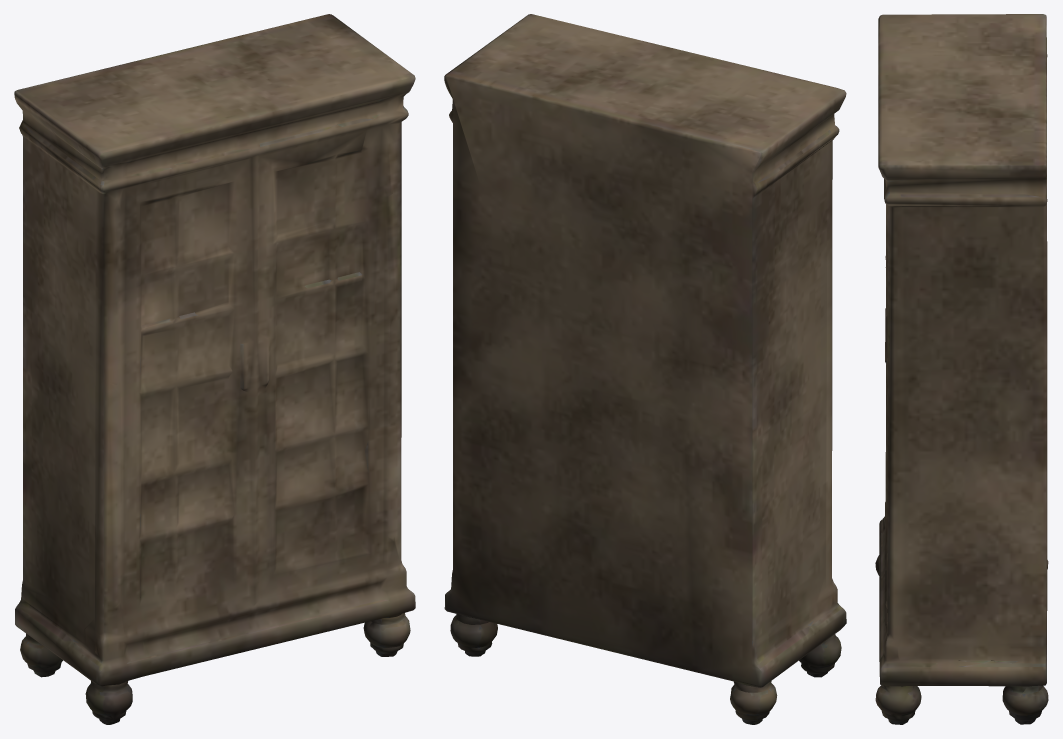
Rendered from plain-wood-bookcase-v001.glb.
3 renders of one model, left to right at view 1: azimuth 30°, elevation 25°; view 2: azimuth 150°, elevation 25°; view 3: azimuth 270°, elevation 25°, orthographic. The views are drawn at different scales.
Visible parts, largest first — view 1: plain-wood-bookcase; view 2: plain-wood-bookcase; view 3: plain-wood-bookcase.
Boxes of the visible parts, left/top/right/bottom form: plain-wood-bookcase: left=14, top=14, right=415, bottom=724; plain-wood-bookcase: left=444, top=14, right=846, bottom=724; plain-wood-bookcase: left=875, top=14, right=1048, bottom=724.
Bounding box in the file's own units: 1.38 × 2.39 × 0.6601.
1 material, 1 textured.
